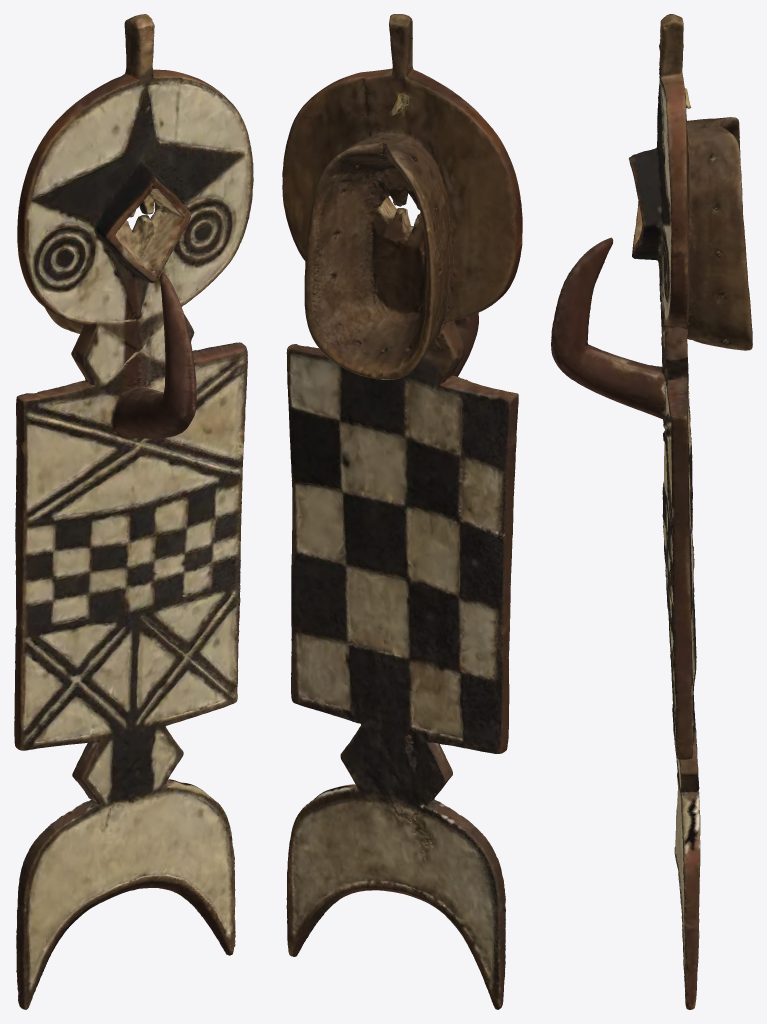
The model's file is preview.glb.
3 renders of one model, left to right at view 1: azimuth 30°, elevation 25°; view 2: azimuth 150°, elevation 25°; view 3: azimuth 270°, elevation 25°, orthographic. The views are drawn at different scales.
Parts seen in each view (by area): view 1: Object_2; view 2: Object_2; view 3: Object_2.
Part boxes in pixels (<box>): Object_2: <box>14,14,253,1009</box>; Object_2: <box>282,14,522,1009</box>; Object_2: <box>551,14,752,1009</box>.
Size of the model in its own units: 257 by 1019 by 196.
1 material, 1 textured.
